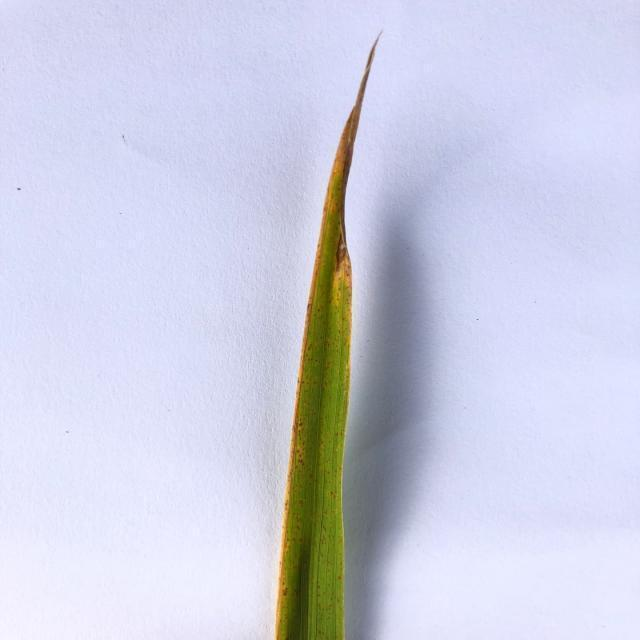Rice Tungro: (271, 8, 391, 640)
